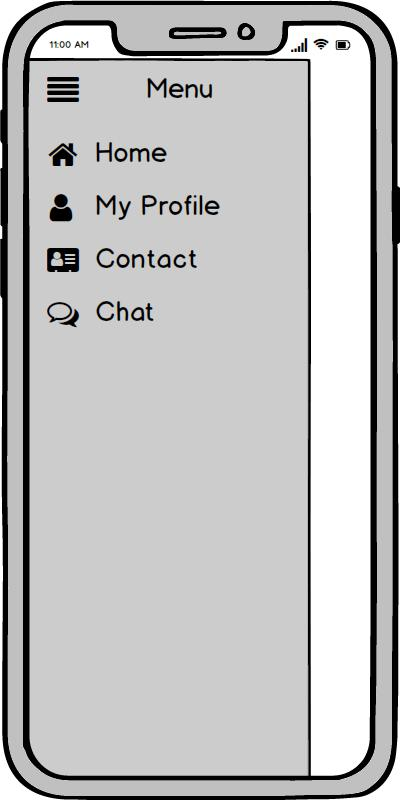Drawer: (30, 62, 311, 776)
Icon: (47, 77, 81, 103), (47, 248, 81, 273), (47, 302, 81, 327), (49, 144, 80, 167), (49, 195, 74, 222)
Text: (95, 195, 221, 221), (97, 248, 198, 272), (97, 142, 170, 163), (146, 78, 214, 100), (96, 301, 154, 324)
